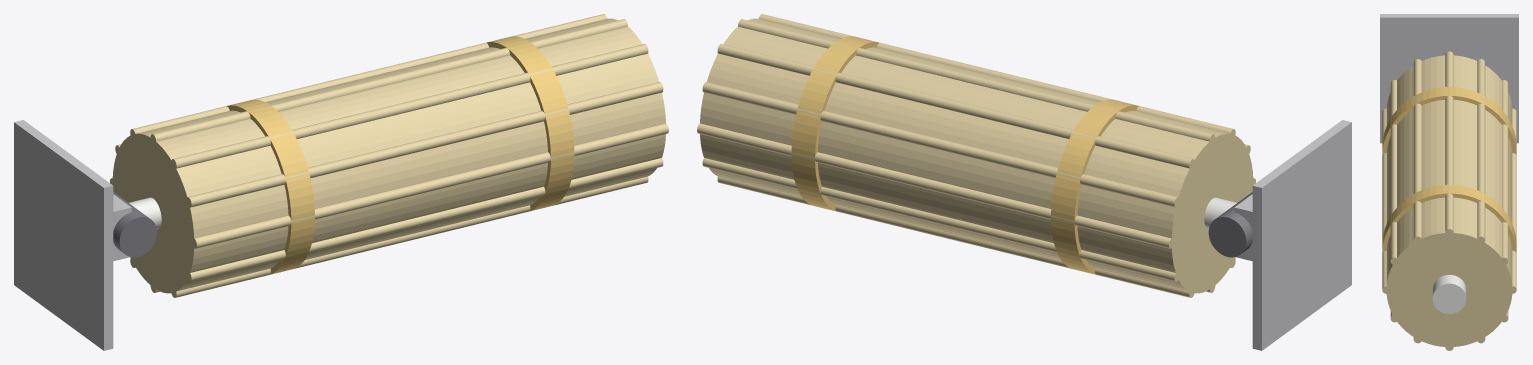
The model's file is power16_mesh_antenna_l.glb.
3 views of the same model, side by side, from view 1: azimuth 30°, elevation 25°; view 2: azimuth 150°, elevation 25°; view 3: azimuth 270°, elevation 25° (orthographic). The views are drawn at different scales.
Visible parts, largest first — view 1: stowed_bundle, mount, launch_restraints, hinge, boom; view 2: stowed_bundle, mount, launch_restraints, hinge, boom; view 3: stowed_bundle, mount, launch_restraints, feed.
Part boxes in pixels (x1,y1,x2,y2): stowed_bundle: [110, 14, 668, 297]; mount: [14, 120, 131, 350]; launch_restraints: [227, 36, 574, 274]; hinge: [113, 192, 157, 257]; boom: [129, 197, 161, 229]; stowed_bundle: [697, 14, 1255, 297]; mount: [1234, 120, 1351, 350]; launch_restraints: [791, 36, 1138, 274]; hinge: [1208, 192, 1252, 257]; boom: [1204, 197, 1236, 229]; stowed_bundle: [1382, 51, 1516, 350]; mount: [1380, 14, 1518, 143]; launch_restraints: [1382, 87, 1516, 252]; feed: [1432, 274, 1466, 313].
Bounding box in the file's own units: 2.5 × 0.66 × 0.66.
